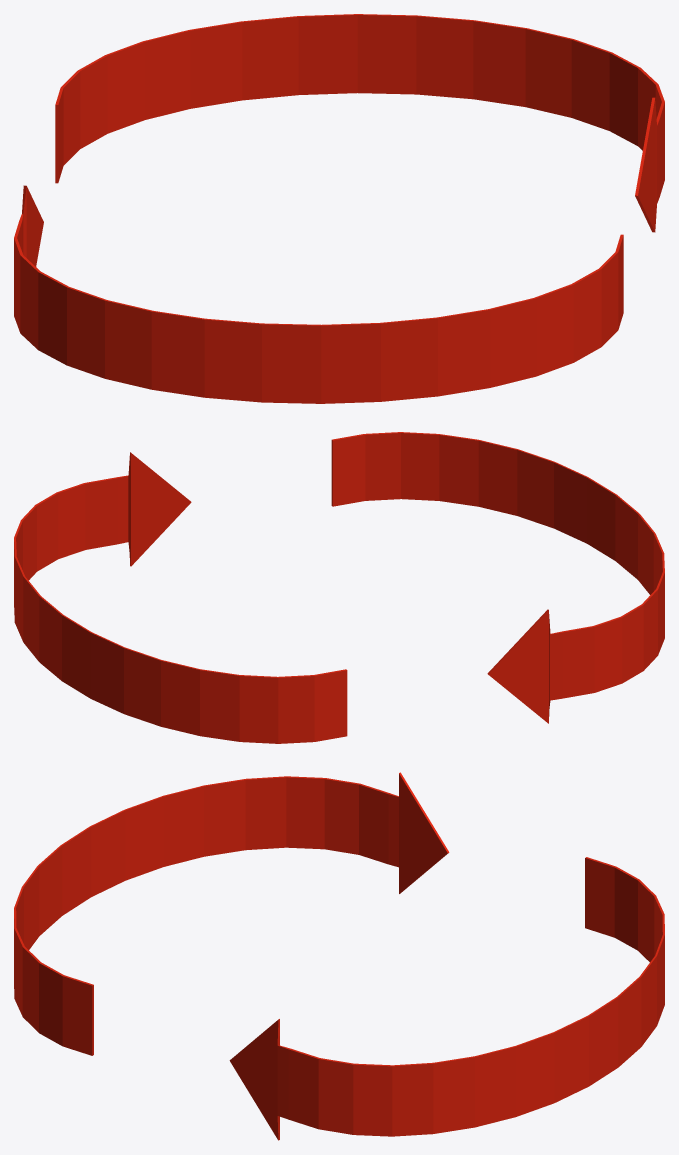
Rendered from arrow.fbx.
3 renders of one model, top to bottom at view 1: azimuth 30°, elevation 25°; view 2: azimuth 150°, elevation 25°; view 3: azimuth 270°, elevation 25°, orthographic. The views are drawn at different scales.
Parts seen in each view (by area): view 1: Cylinder.001; view 2: Cylinder.001; view 3: Cylinder.001.
Boxes of the visible parts, x1=… form: Cylinder.001: x1=14, y1=14, x2=664, y2=403; Cylinder.001: x1=14, y1=432, x2=664, y2=743; Cylinder.001: x1=14, y1=772, x2=664, y2=1140.
Bounding box in the file's own units: 6.59 × 1.28 × 6.25.
